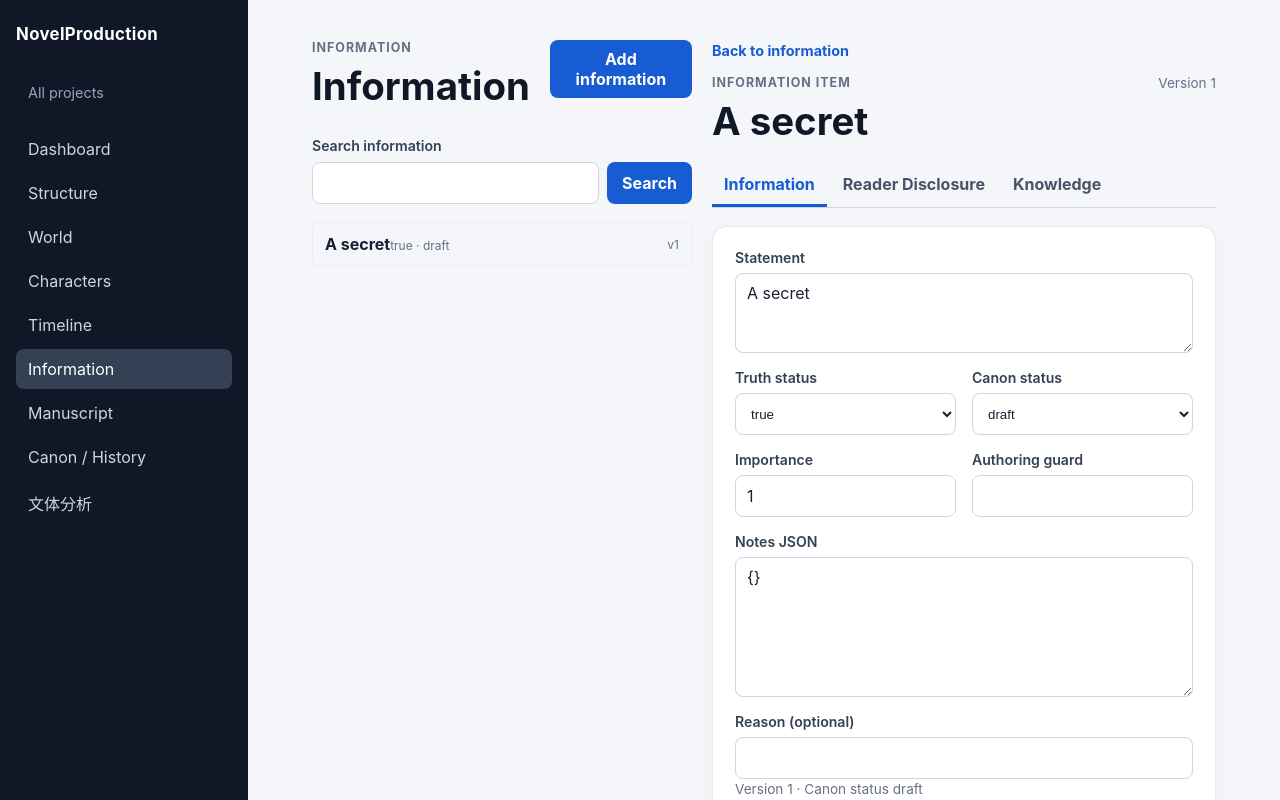
Test case: D4 reader disclosure review regressions › keeps local disclosure on conflict, then loads fallback latest without retrying
Click the tab "Reader Disclosure". click: (914, 186)
box: [831,164,997,207]
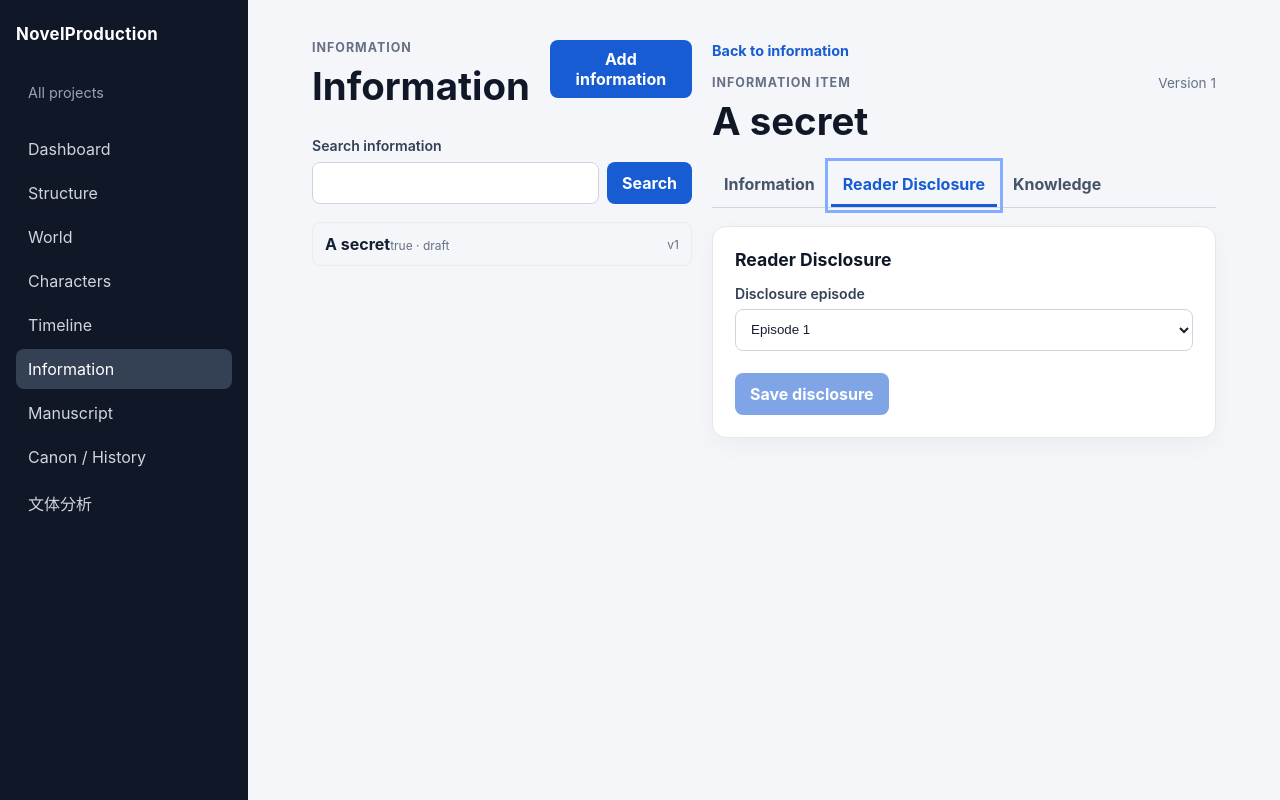
Select "Episode 2" in the dropdown labelled "Disclosure episode". click: (964, 330)
box: [735,309,1193,351]
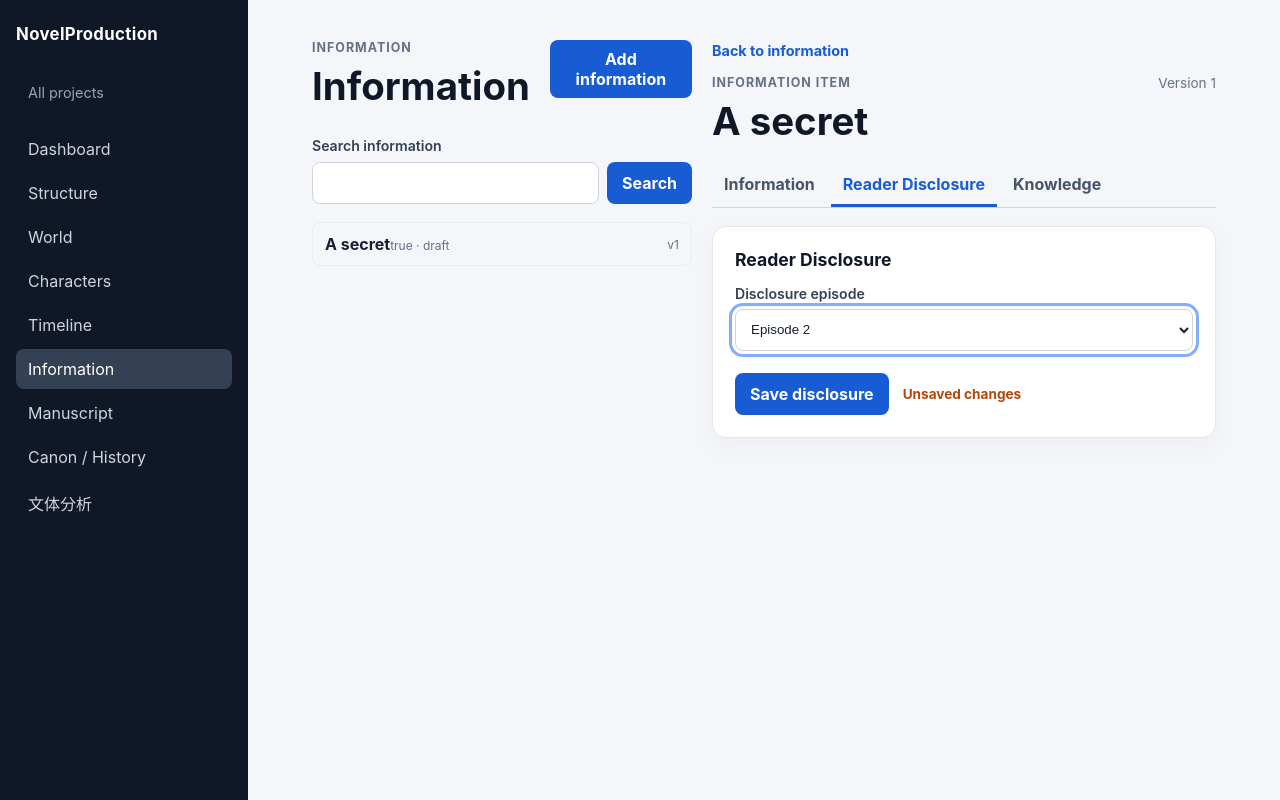
Click the button "Save disclosure". click: (812, 394)
box: [735,373,889,415]
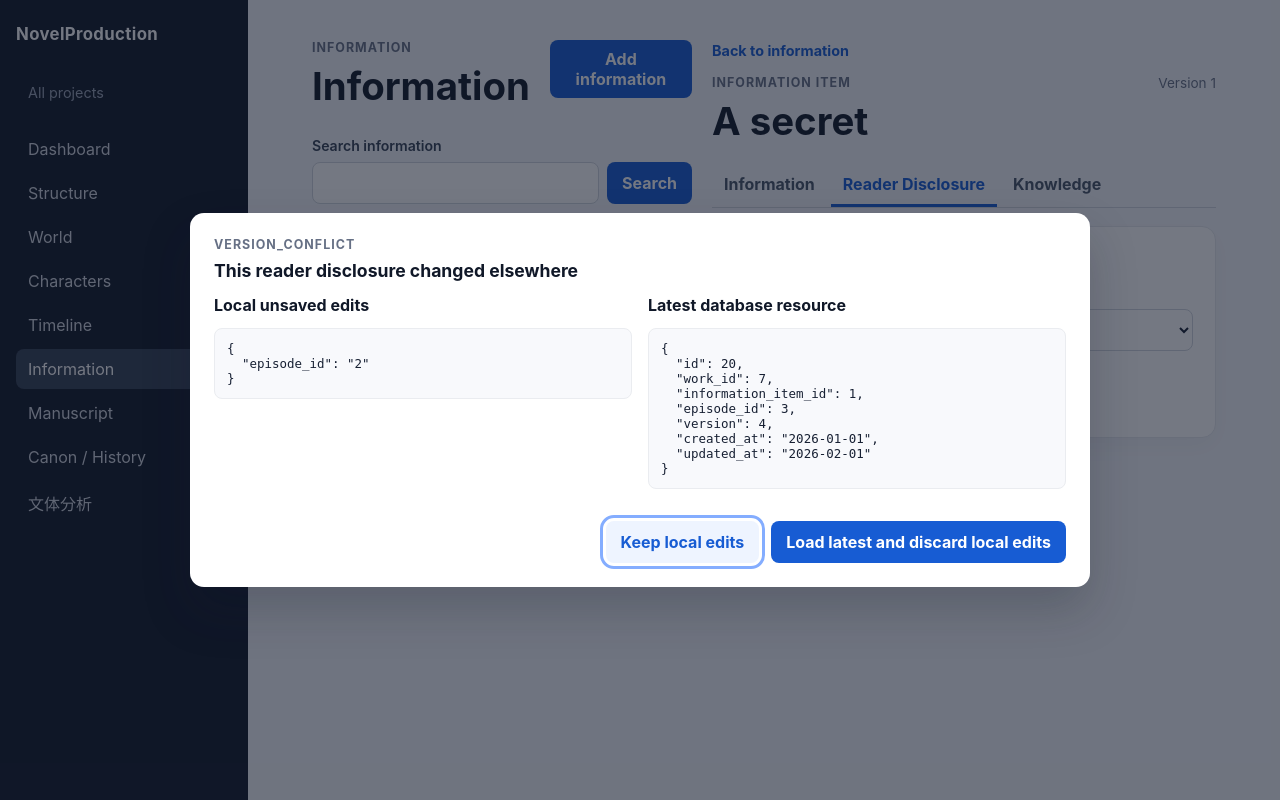
Now the dialog is shown, box [190,213,1090,587]
Click the button "Keep local edits". click: (682, 542)
box: [606,521,759,563]
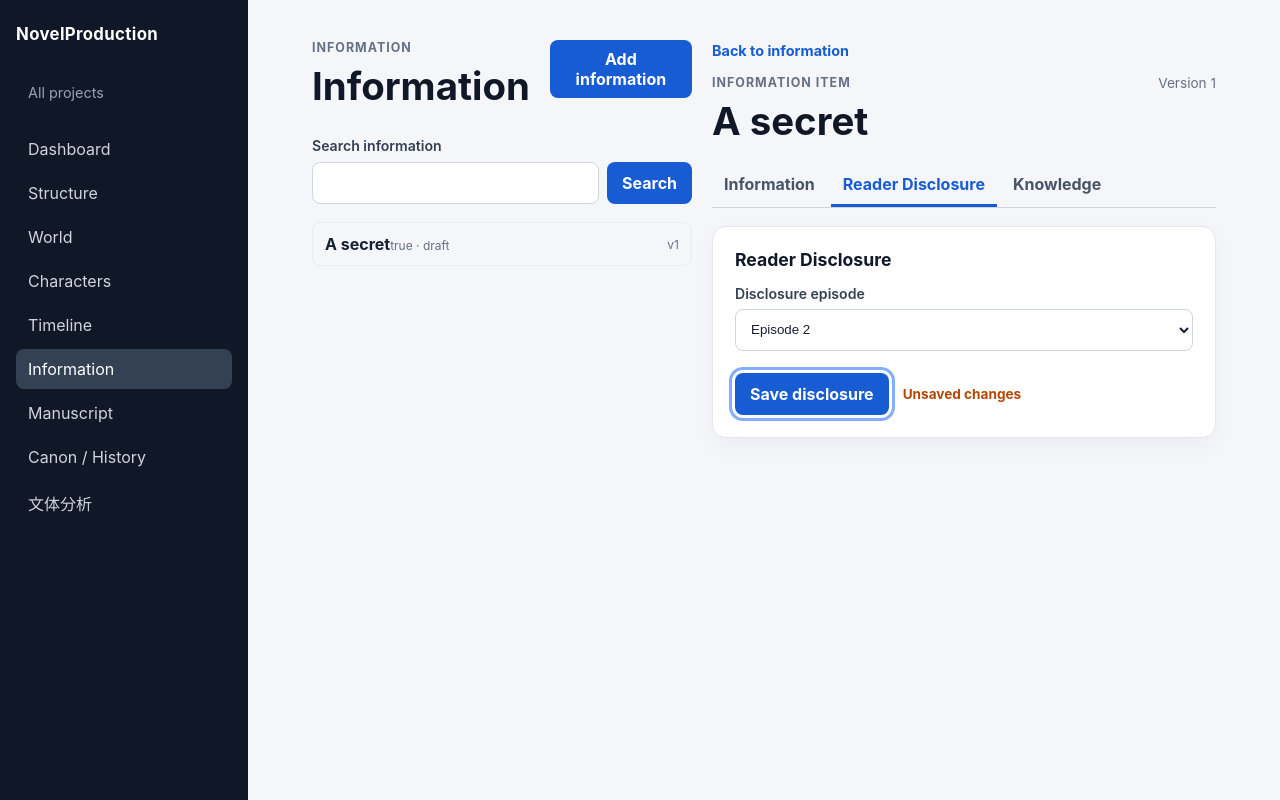
Click the button "Save disclosure". click: (812, 394)
box: [735,373,889,415]
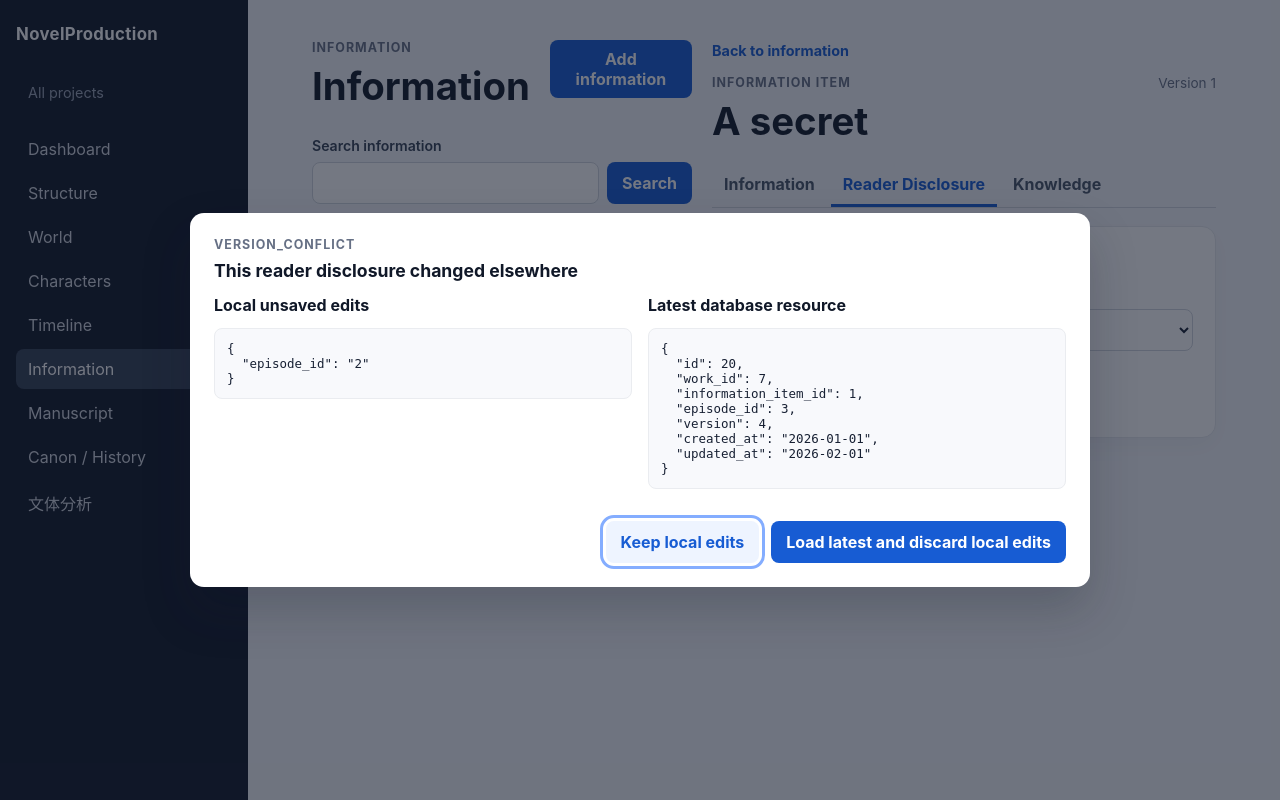
Now the dialog is shown, box [190,213,1090,587]
Click the button "Load latest and discard local edits". click: (919, 542)
box: [771,521,1066,563]
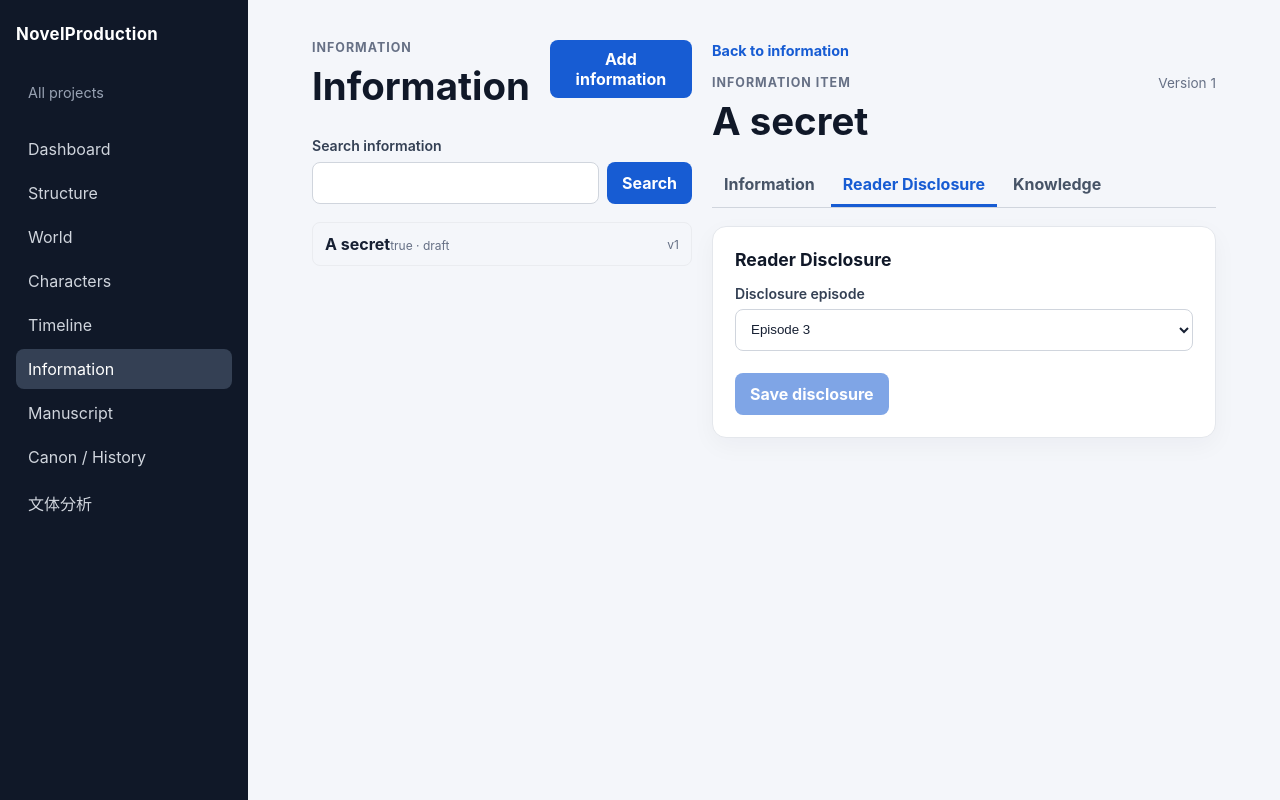
Now the dialog is gone
